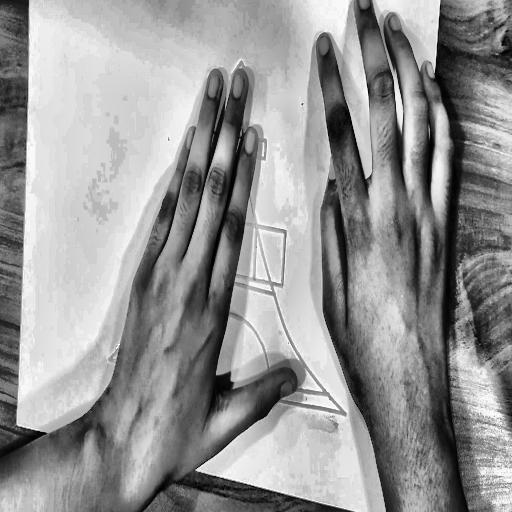eiffel-tower: (101, 25, 370, 425), (14, 419, 20, 429)
